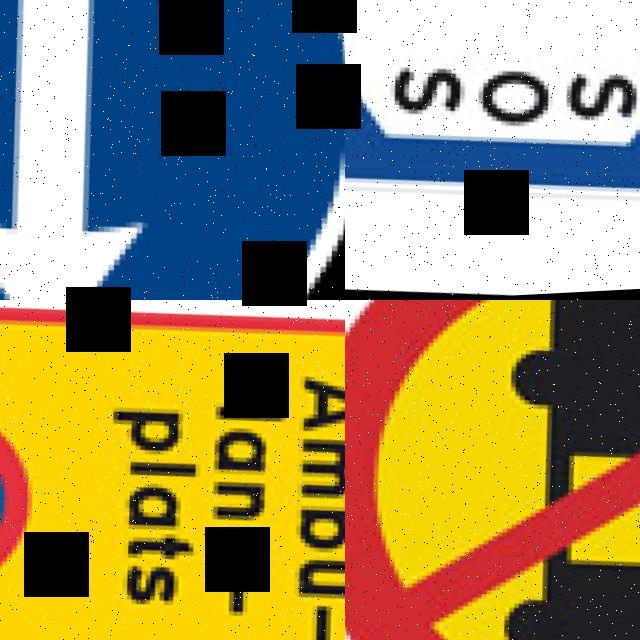177: (0, 300, 345, 640)
46: (345, 300, 640, 640)
79: (345, 0, 640, 238)
Turn Right: (0, 0, 345, 300)
